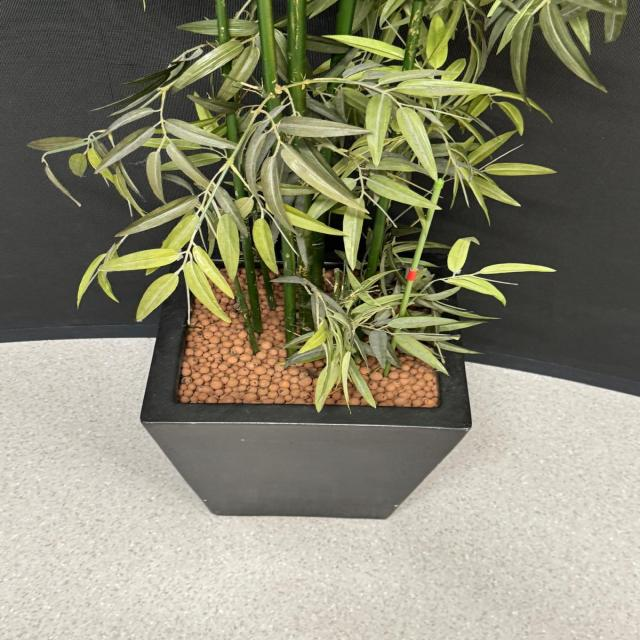Pot: (141, 247, 469, 521)
